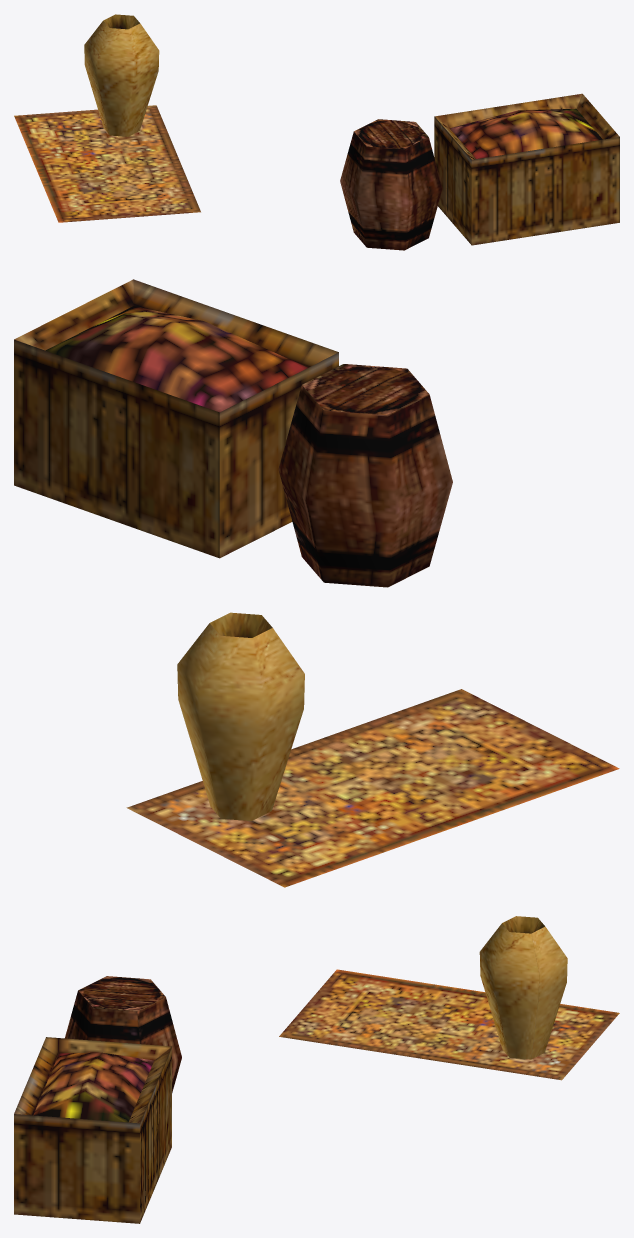
The model's file is pers_house_d_1.dae.
The picture shows the model from 3 angles, top to bottom: view 1: azimuth 30°, elevation 25°; view 2: azimuth 150°, elevation 25°; view 3: azimuth 270°, elevation 25°; orthographic projection. The views are drawn at different scales.
Parts seen in each view (by area): view 1: Object36-Pivot; view 2: Object36-Pivot; view 3: Object36-Pivot.
Part boxes in pixels (box(x1,y1,x2,y2)): Object36-Pivot: box(14, 14, 619, 250); Object36-Pivot: box(14, 279, 619, 887); Object36-Pivot: box(14, 916, 619, 1223).
Bounding box in the file's own units: 8.48 × 8.63 × 2.06.
